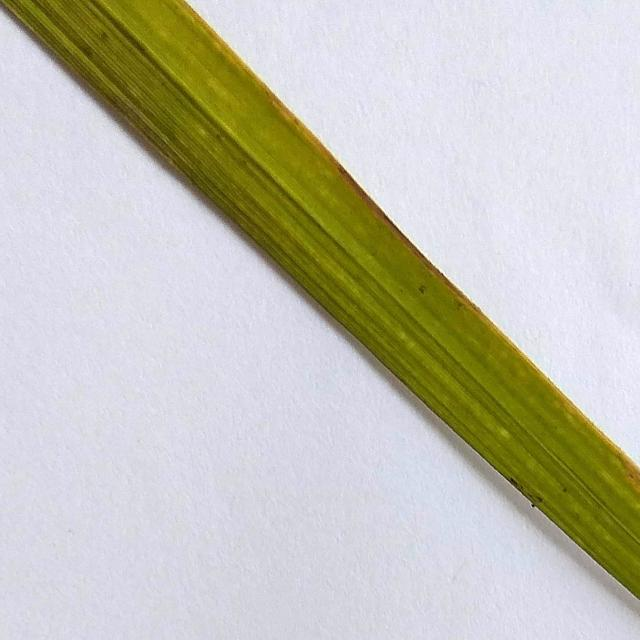Rice_Healthy: (1, 0, 640, 598)
